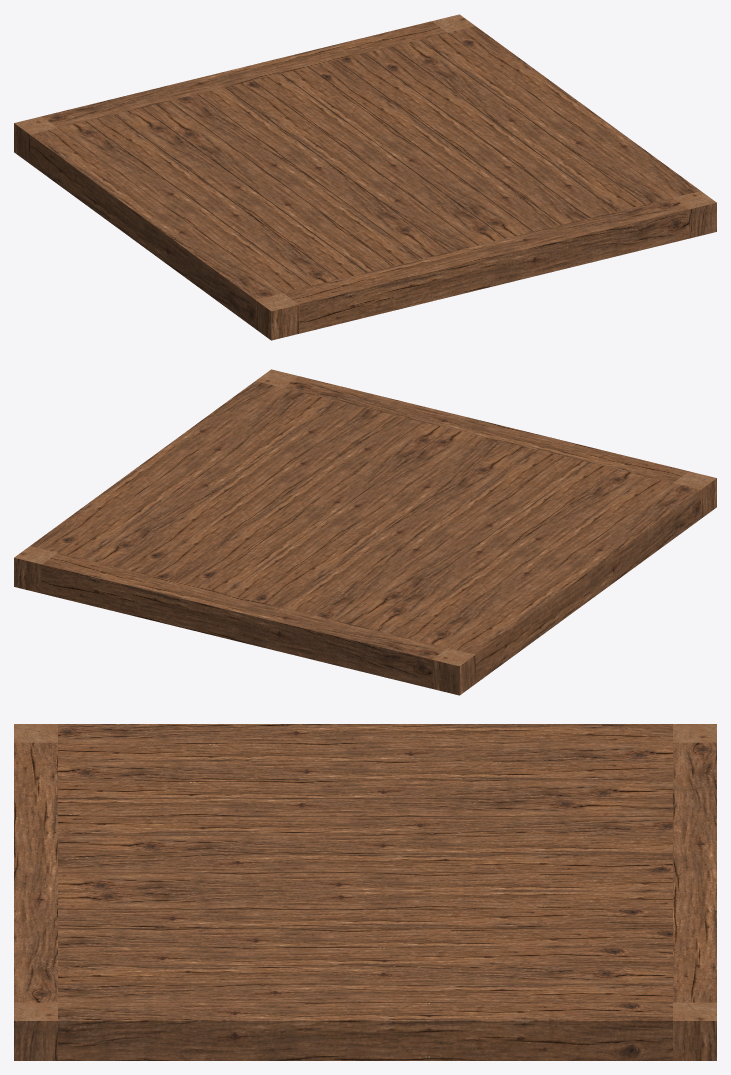
The model's file is TimberFloor_4.00Wx0.25Hx4.00D_UV2.fbx.
3 renders of one model, top to bottom at view 1: azimuth 30°, elevation 25°; view 2: azimuth 150°, elevation 25°; view 3: azimuth 270°, elevation 25°, orthographic. The views are drawn at different scales.
Visible parts, largest first — view 1: Modular_TimberFloor_UV2_Export; view 2: Modular_TimberFloor_UV2_Export; view 3: Modular_TimberFloor_UV2_Export.
Boxes of the visible parts, left/top/right/bottom form: Modular_TimberFloor_UV2_Export: left=14, top=14, right=716, bottom=340; Modular_TimberFloor_UV2_Export: left=14, top=369, right=716, bottom=695; Modular_TimberFloor_UV2_Export: left=14, top=724, right=716, bottom=1060.
Bounding box in the file's own units: 4 × 0.25 × 4.
